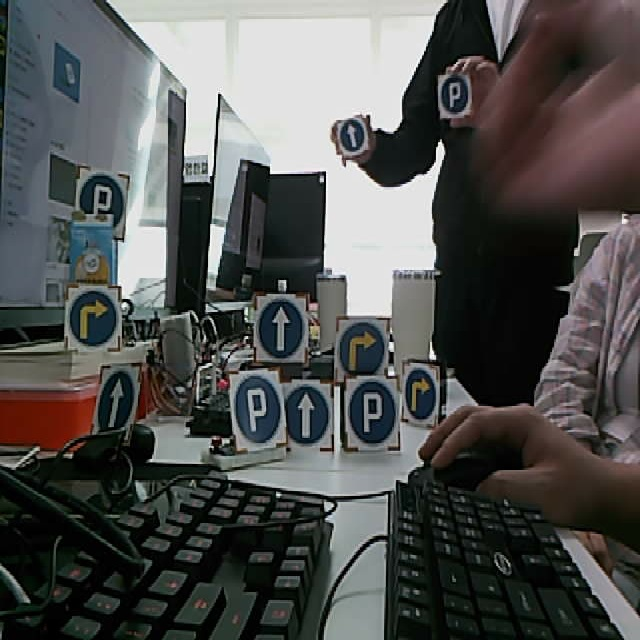parking: (227, 369, 289, 454), (342, 375, 402, 451), (74, 167, 131, 243), (436, 71, 472, 119)
right: (63, 284, 123, 353), (332, 316, 390, 373), (402, 361, 439, 427)
straight: (253, 290, 310, 365), (93, 364, 141, 445), (286, 380, 330, 452), (335, 116, 370, 162)
